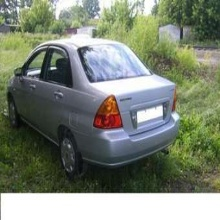no damage: (7, 37, 181, 179)
